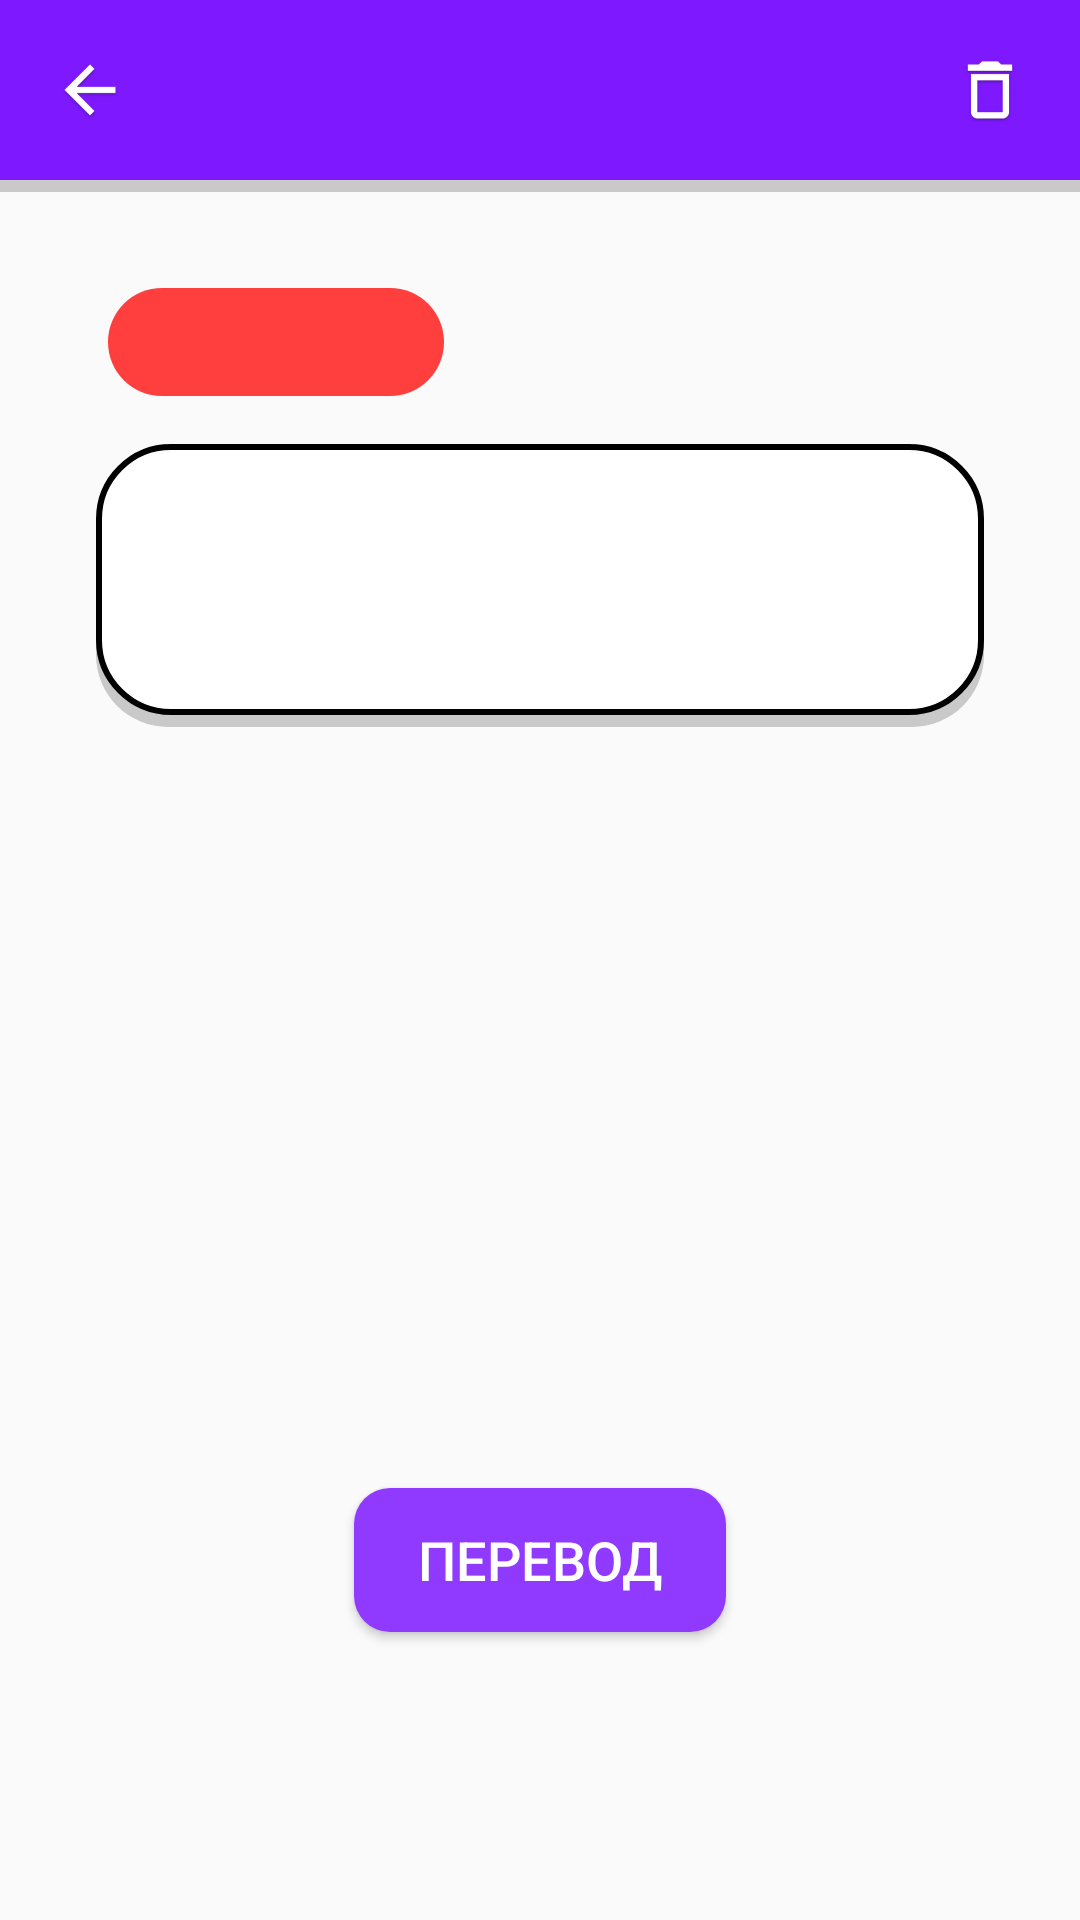

Icons on this 1080px x 1920px Android screen, each with the point to tap as (x=x, y=y):
back: (x=90, y=90)
delete: (x=990, y=91)
